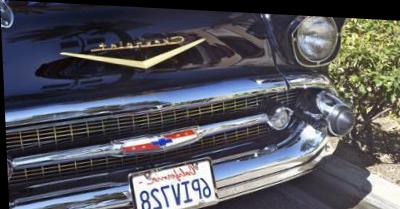License_Plate: (134, 155, 215, 209)
